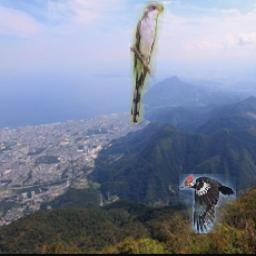Cuckoo: (130, 1, 164, 124)
Woodpecker: (180, 175, 237, 234)
